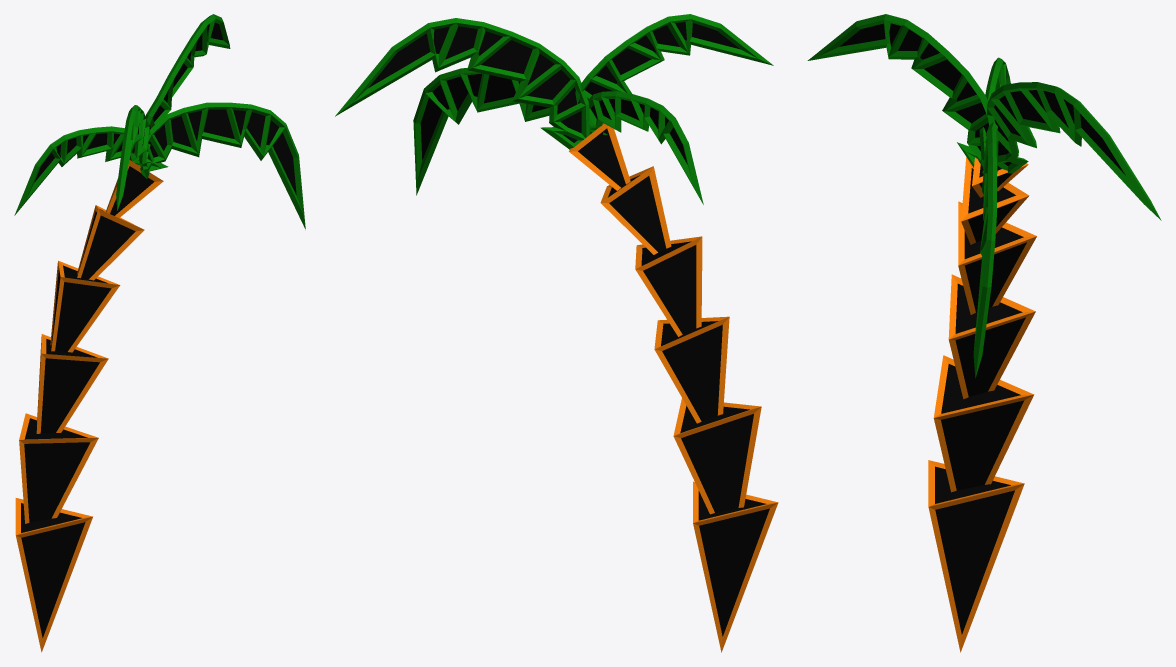
The model's file is palmTree.obj.
3 renders of one model, left to right at view 1: azimuth 30°, elevation 25°; view 2: azimuth 150°, elevation 25°; view 3: azimuth 270°, elevation 25°, orthographic. The views are drawn at different scales.
Visible parts, largest first — view 1: Plane_Plane.003, Cone, Cone.001, Cone.002, Cone.003, Plane.002_Plane.004, Cone.004, Plane.004_Plane.006, Plane.003_Plane.005, Cone.005; view 2: Plane.004_Plane.006, Cone, Cone.001, Plane.003_Plane.005, Plane_Plane.003, Cone.002, Cone.003, Plane.002_Plane.004, Cone.004, Cone.005; view 3: Cone, Cone.001, Plane.003_Plane.005, Plane.004_Plane.006, Cone.002, Cone.003, Plane_Plane.003, Cone.004, Plane.002_Plane.004, Cone.005.
Part boxes in pixels (x1,y1,x2,y2): Plane_Plane.003: (134, 102, 305, 229); Cone: (15, 498, 92, 652); Cone.001: (19, 413, 98, 523); Cone.002: (36, 334, 108, 433); Cone.003: (50, 260, 120, 352); Plane.002_Plane.004: (14, 126, 154, 215); Cone.004: (77, 205, 144, 280); Plane.004_Plane.006: (145, 14, 230, 129); Plane.003_Plane.005: (116, 105, 150, 210); Cone.005: (105, 160, 163, 217); Plane.004_Plane.006: (335, 18, 589, 149); Cone: (693, 481, 778, 652); Cone.001: (673, 398, 761, 514); Plane.003_Plane.005: (575, 14, 773, 104); Plane_Plane.003: (413, 68, 593, 195); Cone.002: (654, 316, 729, 423); Cone.003: (635, 236, 702, 336); Plane.002_Plane.004: (588, 91, 703, 204); Cone.004: (600, 166, 671, 254); Cone.005: (569, 123, 630, 190); Cone: (928, 460, 1024, 652); Cone.001: (933, 355, 1034, 492); Plane.003_Plane.005: (807, 14, 998, 173); Plane.004_Plane.006: (987, 82, 1161, 220); Cone.002: (948, 274, 1035, 399); Cone.003: (958, 201, 1036, 314); Plane_Plane.003: (973, 122, 997, 378); Cone.004: (961, 157, 1029, 244); Plane.002_Plane.004: (979, 57, 1010, 166); Cone.005: (972, 157, 1028, 197).
Size of the model in its own units: 1.47 by 2.53 by 1.18.
